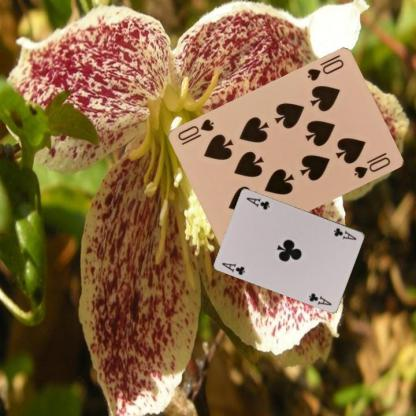10s: (304, 56, 345, 82)
Ac: (219, 260, 247, 276), (331, 225, 358, 241)
